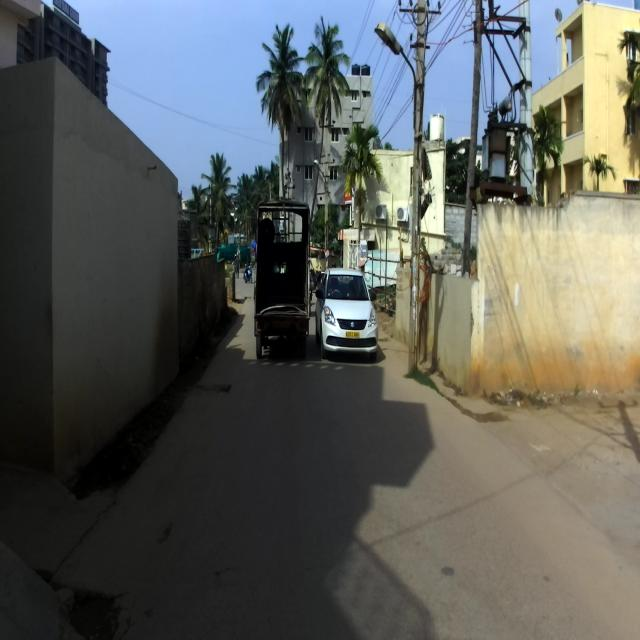car ahead at: (311, 264, 381, 362)
electric pole ahead at: (374, 0, 438, 380)
truck ahead at: (254, 198, 311, 360)
